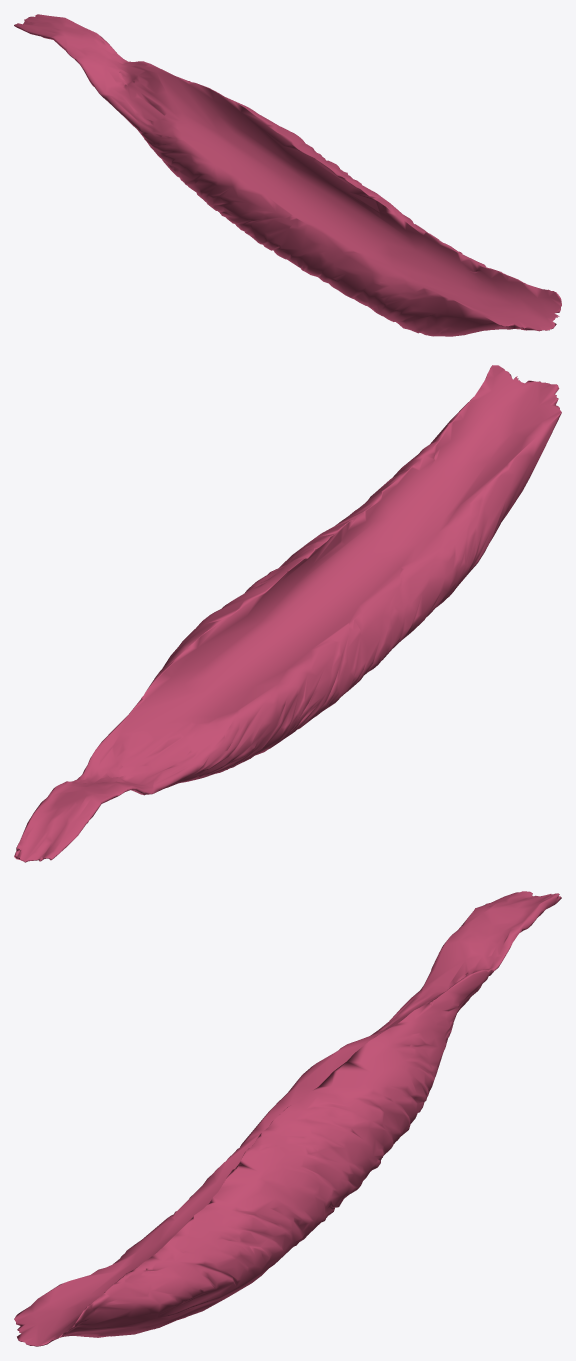
The picture shows the model from 3 angles, top to bottom: view 1: azimuth 30°, elevation 25°; view 2: azimuth 150°, elevation 25°; view 3: azimuth 330°, elevation 25°; orthographic projection. The views are drawn at different scales.
Visible parts, largest first — view 1: 左侧股中间肌; view 2: 左侧股中间肌; view 3: 左侧股中间肌.
Part boxes in pixels (bbox=[...]): 左侧股中间肌: bbox=[14, 14, 561, 336]; 左侧股中间肌: bbox=[14, 365, 561, 862]; 左侧股中间肌: bbox=[14, 891, 561, 1346].
Bounding box in the file's own units: 0.0834 × 0.0704 × 0.6017.
